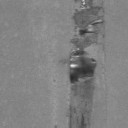slag inclusion: (58, 0, 106, 126)
